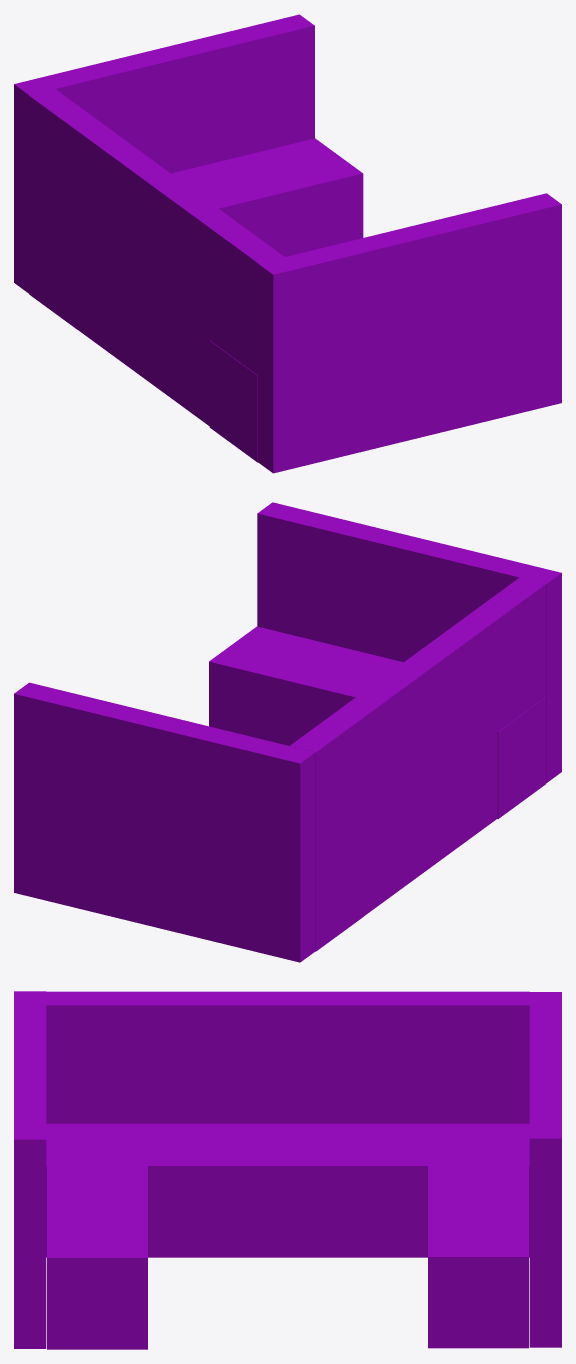
Rendered from bank.obj.
The picture shows the model from 3 angles, top to bottom: view 1: azimuth 30°, elevation 25°; view 2: azimuth 150°, elevation 25°; view 3: azimuth 270°, elevation 25°; orthographic projection. The views are drawn at different scales.
Parts seen in each view (by area): view 1: Cube.004_Cube.006; view 2: Cube.004_Cube.006; view 3: Cube.004_Cube.006.
Part boxes in pixels (x1,y1,x2,y2): Cube.004_Cube.006: [14, 14, 561, 473]; Cube.004_Cube.006: [14, 502, 561, 962]; Cube.004_Cube.006: [14, 991, 561, 1349].
Bounding box in the file's own units: 3.06 × 2.02 × 4.78.
